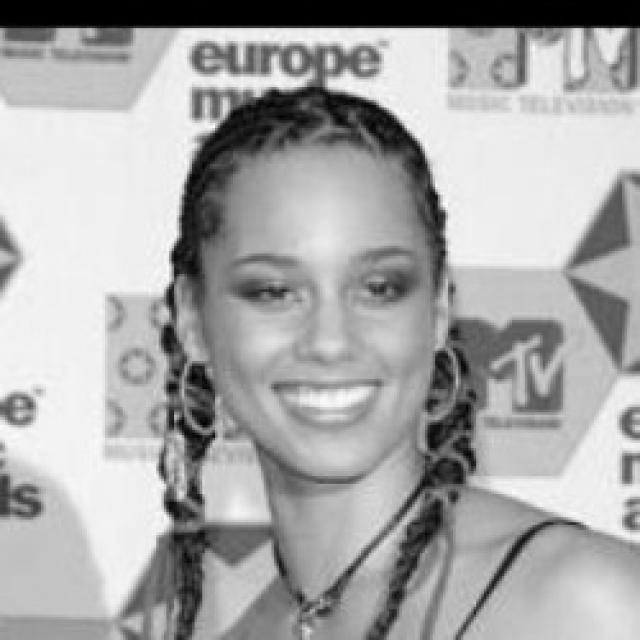real: (201, 154, 435, 480), (234, 271, 422, 325)
